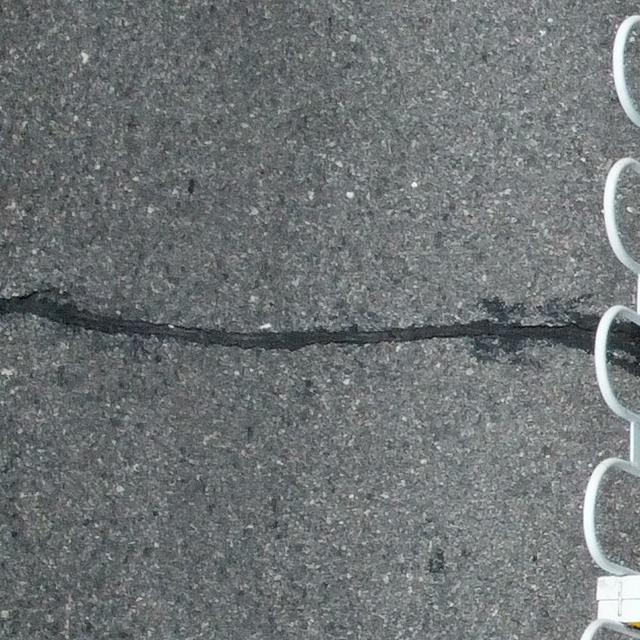TransverseCrack: (1, 292, 640, 375)
